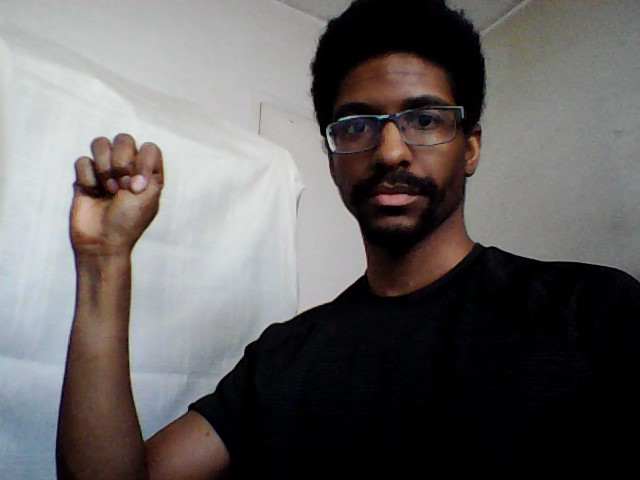m: (64, 131, 168, 256)
